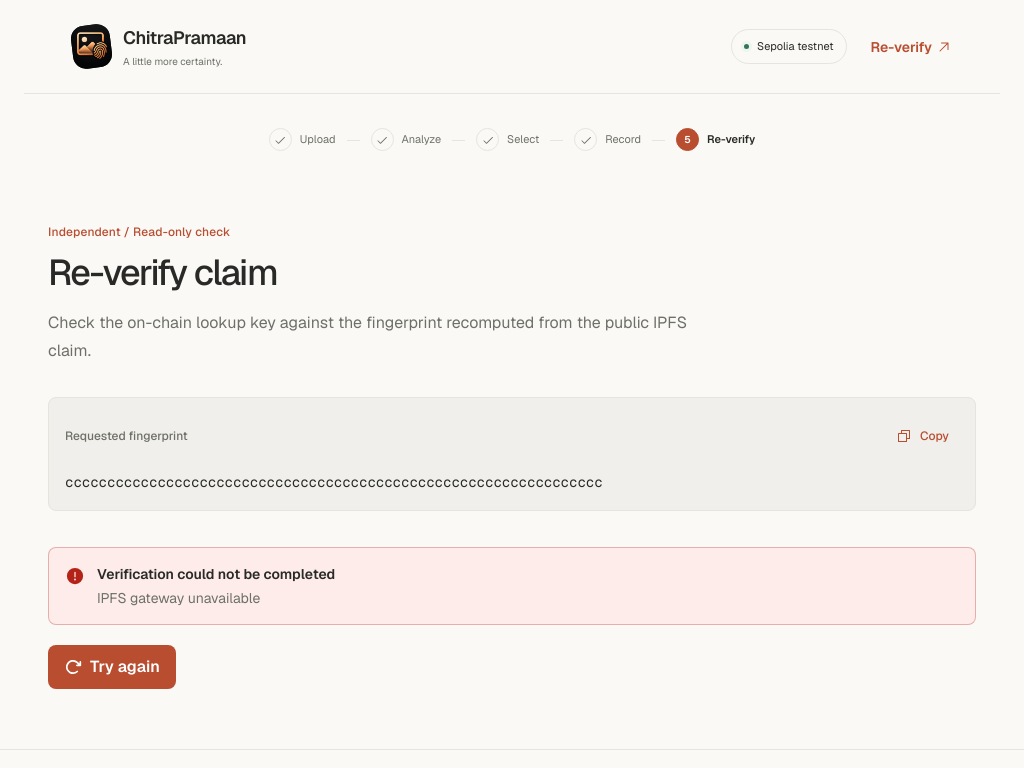
re-verification screen › retries a transport failure without changing the fingerprint
The image size is (1024, 768).
Expected: the text "IPFS gateway unavailable" is shown, [97,589,260,607]
Expected: the text "Verification could not be completed" is shown, [97,565,335,583]
Step 1. Click the button "Try again" → (112,667), box [48,645,176,689]
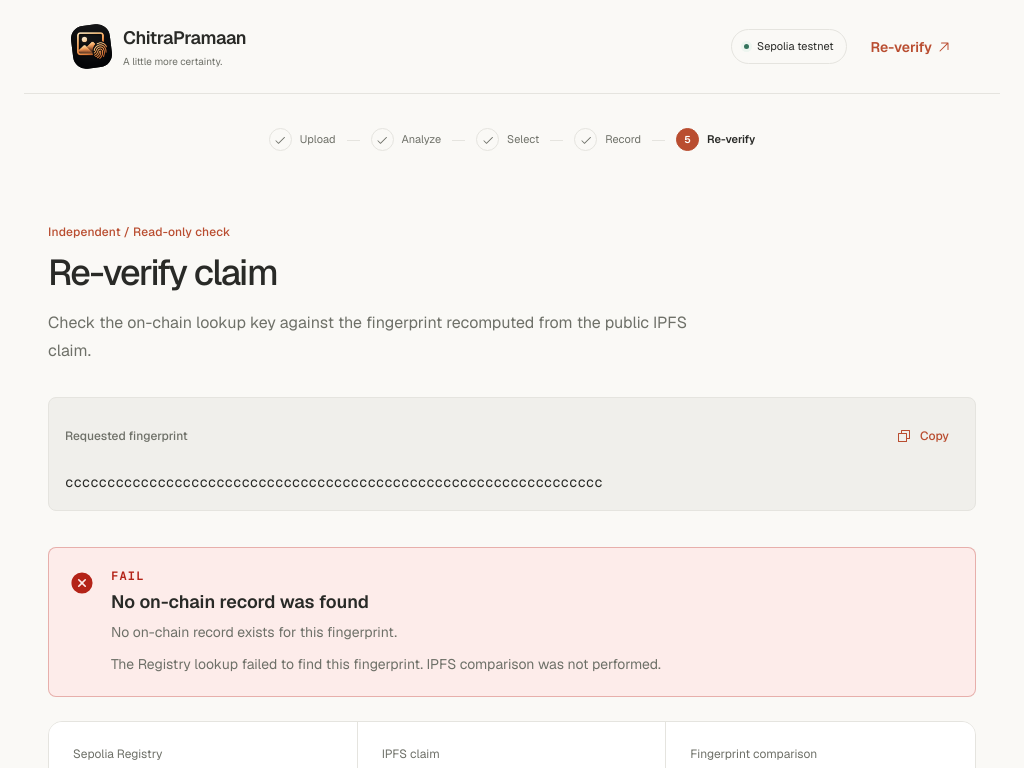
Result: the heading "No on-chain record was found" is shown at [111,590,369,613]
